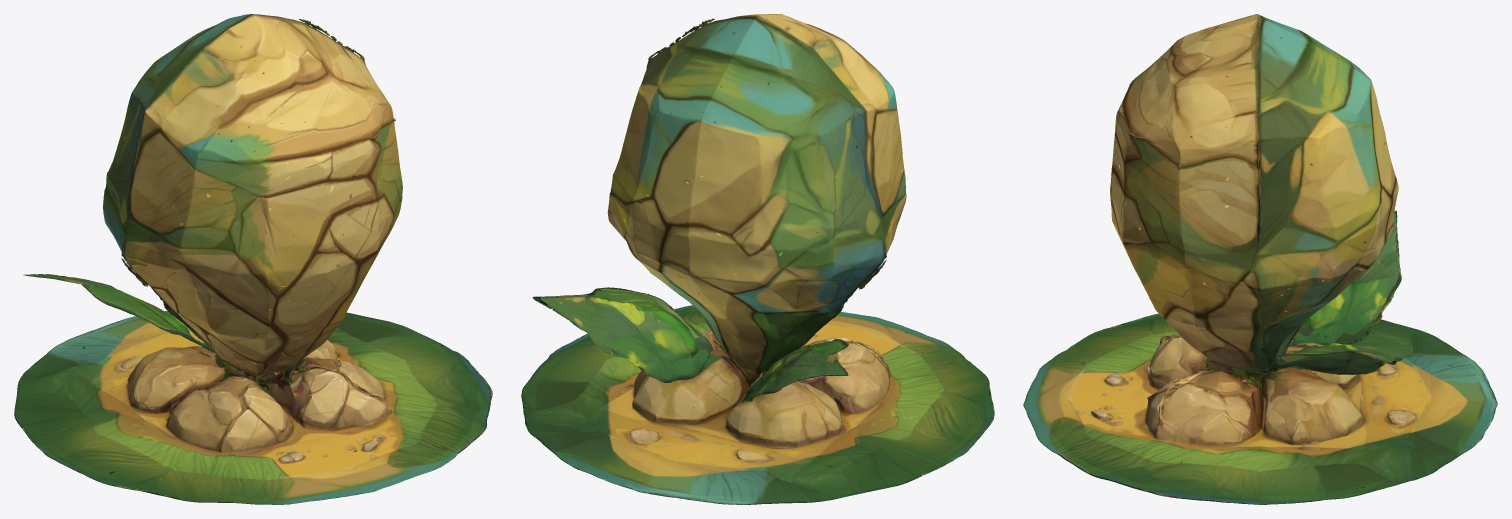
Rendered from Tropical_Stone.glb.
3 renders of one model, left to right at view 1: azimuth 30°, elevation 25°; view 2: azimuth 150°, elevation 25°; view 3: azimuth 270°, elevation 25°, orthographic.
Bounding box in the file's own units: 1.98 × 1.78 × 1.98.
Materials: 1 (1 with a texture image).
